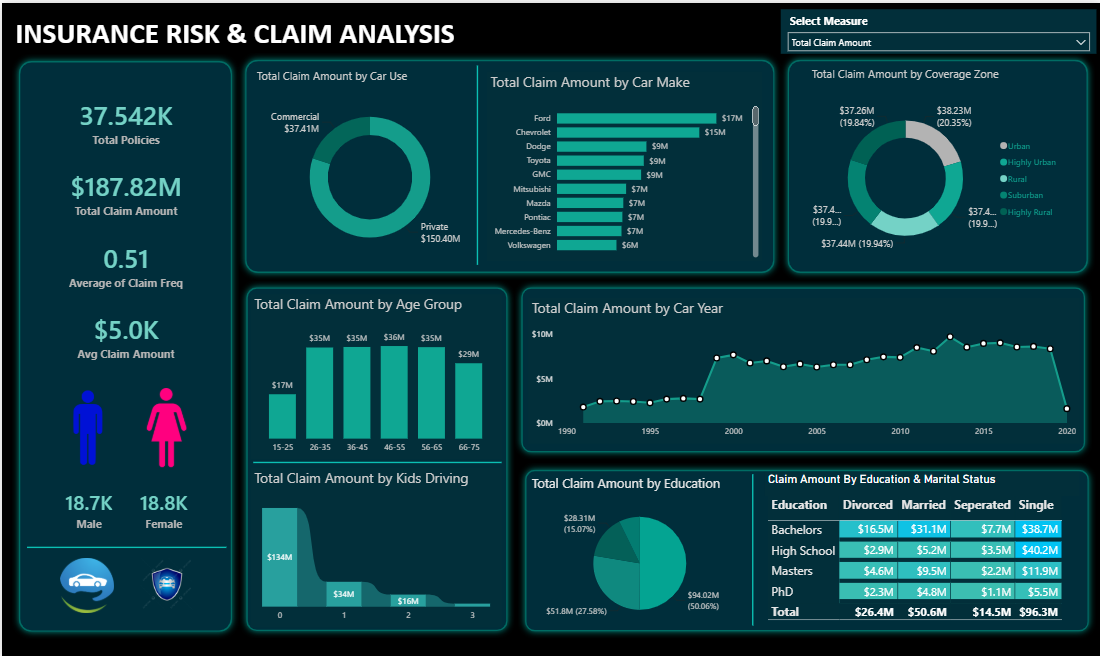

The page's visual inventory and layout, read from the dashboard file:
{"tool":"powerbi","page":{"name":"Page 1","canvas":[1600,950],"ordinal":0},"visuals":[{"type":"textbox","box":[15.4,12,699.8,61.7],"z":0},{"type":"shape","box":[15.4,73.8,330,850],"z":1000},{"type":"cardVisual","fields":{"Data":["insurance_data_car.Total Policies","insurance_data_car.Total Claim Amount","Avg(insurance_data_car.Claim Freq)","insurance_data_car.Avg Claim Amount"]},"box":[45.8,100,270,460],"z":2000},{"type":"cardVisual","fields":{"Data":["insurance_data_car.Male Count","insurance_data_car.Female Count"]},"box":[50,681.5,260,110],"z":3000},{"type":"image","box":[66.7,559.3,115,115],"z":4000},{"type":"image","box":[181.5,559.3,115,115],"z":5000},{"type":"slicer","fields":{"Values":["Select Measure.Select Measure"]},"box":[1133.3,9.3,459.3,64.8],"z":6000},{"type":"shape","box":[343.8,72.9,790,330],"z":7000},{"type":"donutChart","fields":{"Y":["insurance_data_car.Total Policies"],"Category":["insurance_data_car.Car Use"]},"box":[365,95,340,285],"z":8000},{"type":"clusteredBarChart","fields":{"Y":["insurance_data_car.Total Policies"],"Category":["insurance_data_car.Car Make"]},"box":[705,100,400,275],"z":9000},{"type":"shape","box":[1133.3,73.3,456.7,330],"z":10000},{"type":"donutChart","fields":{"Y":["insurance_data_car.Total Policies"],"Category":["insurance_data_car.Coverage Zone"]},"box":[1173.3,91.7,375,295],"z":11000},{"type":"shape","box":[345,403.3,400,520],"z":12000},{"type":"clusteredColumnChart","fields":{"Y":["insurance_data_car.Total Policies"],"Category":["insurance_data_car.Age Group"]},"box":[361.7,423.3,365,240],"z":13000},{"type":"ribbonChart","fields":{"Y":["insurance_data_car.Total Policies"],"Category":["insurance_data_car.Kids Driving"]},"box":[361.7,676.7,365,231.7],"z":14000},{"type":"shape","box":[745,403.3,840,260],"z":15000},{"type":"lineChart","fields":{"Y":["insurance_data_car.Total Policies"],"Category":["insurance_data_car.Car Year"]},"box":[765,428.3,801.7,211.7],"z":16000},{"type":"shape","box":[750,668.3,840,255],"z":17000},{"type":"pieChart","fields":{"Y":["insurance_data_car.Total Policies"],"Category":["insurance_data_car.Education"]},"box":[765,685,325,223.3],"z":18000},{"type":"pivotTable","title":"Claim Amount By Education & Marital Status","fields":{"Rows":["insurance_data_car.Education"],"Columns":["insurance_data_car.Marital Status"],"Values":["insurance_data_car.Total Claim Amount"]},"box":[1108.5,681.4,458.3,223.3],"z":19000},{"type":"shape","box":[667.1,91.4,48.6,290],"z":20000},{"type":"shape","box":[365,653.8,361.2,27.5],"z":21000},{"type":"shape","box":[35.5,778.2,290,27.3],"z":22000},{"type":"image","box":[83.3,807.4,80,80],"z":23000},{"type":"image","box":[200,805.6,80,80],"z":24000},{"type":"shape","box":[1076.2,685,31.2,220],"z":25000}]}

Visuals, with their boxes in screenshot pixels (x1, y1, x2, y2), scaled from the page's 1600x950 canvas onto the 1100x656 screenshot:
textbox: <box>11,8,492,51</box>
shape: <box>11,51,237,638</box>
cardVisual - insurance_data_car.Total Policies x insurance_data_car.Total Claim Amount: <box>31,69,217,387</box>
cardVisual - insurance_data_car.Male Count x insurance_data_car.Female Count: <box>34,471,213,547</box>
image: <box>46,386,125,466</box>
image: <box>125,386,204,466</box>
slicer - Select Measure.Select Measure: <box>779,6,1095,51</box>
shape: <box>236,50,779,278</box>
donutChart - insurance_data_car.Total Policies x insurance_data_car.Car Use: <box>251,66,485,262</box>
clusteredBarChart - insurance_data_car.Total Policies x insurance_data_car.Car Make: <box>485,69,760,259</box>
shape: <box>779,51,1093,278</box>
donutChart - insurance_data_car.Total Policies x insurance_data_car.Coverage Zone: <box>807,63,1064,267</box>
shape: <box>237,278,512,638</box>
clusteredColumnChart - insurance_data_car.Total Policies x insurance_data_car.Age Group: <box>249,292,500,458</box>
ribbonChart - insurance_data_car.Total Policies x insurance_data_car.Kids Driving: <box>249,467,500,627</box>
shape: <box>512,278,1090,458</box>
lineChart - insurance_data_car.Total Policies x insurance_data_car.Car Year: <box>526,296,1077,442</box>
shape: <box>516,461,1093,638</box>
pieChart - insurance_data_car.Total Policies x insurance_data_car.Education: <box>526,473,749,627</box>
"Claim Amount By Education & Marital Status" pivotTable: <box>762,471,1077,625</box>
shape: <box>459,63,492,263</box>
shape: <box>251,451,499,470</box>
shape: <box>24,537,224,556</box>
image: <box>57,558,112,613</box>
image: <box>138,556,192,612</box>
shape: <box>740,473,761,625</box>
